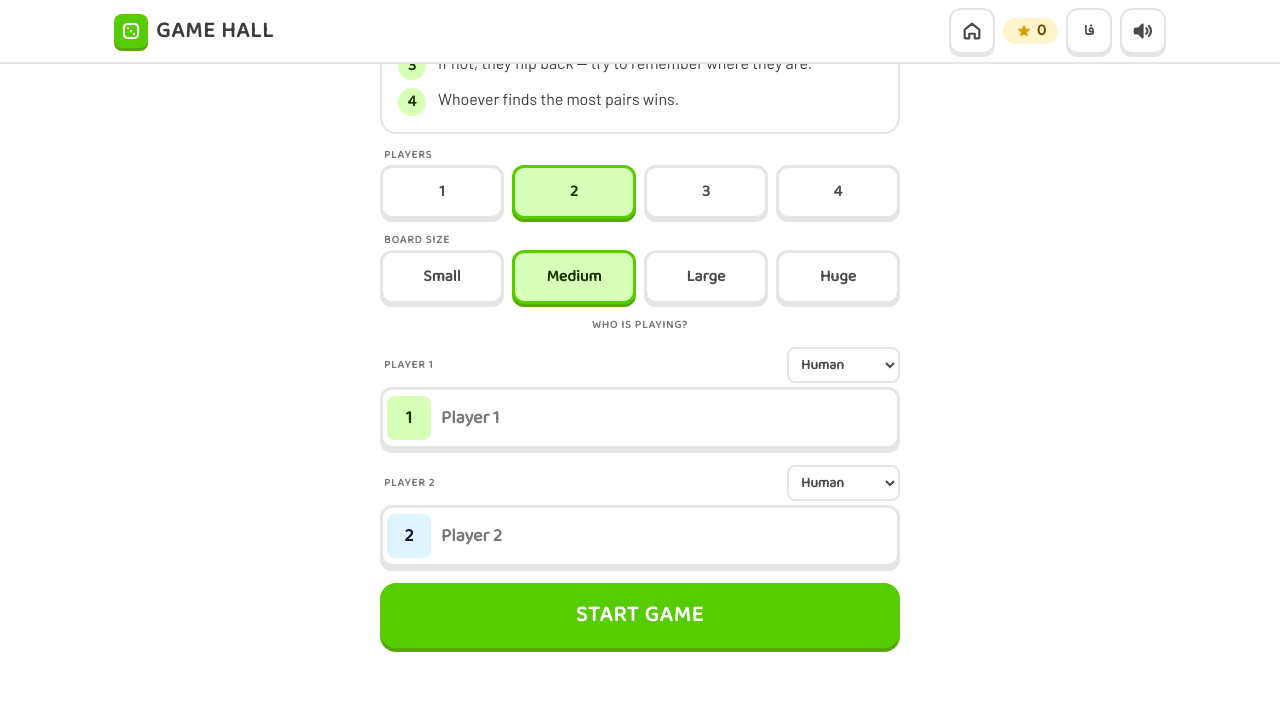
Memory — setup › starts with names or defaults
(page scrolled)
Type "Alex" into the field labelled "Player 1" at (666, 418), box [439,394,893,442]
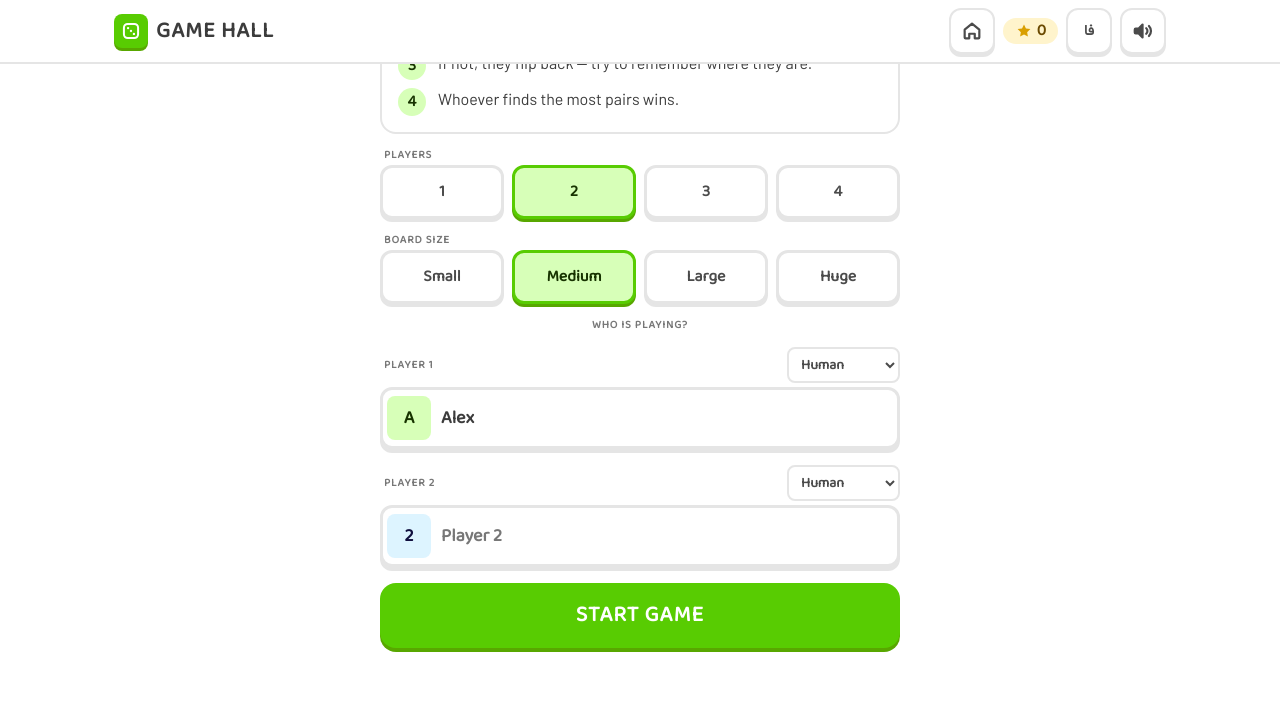
Click the button "Start game" at (640, 616), box [380,583,900,648]
(page scrolled)
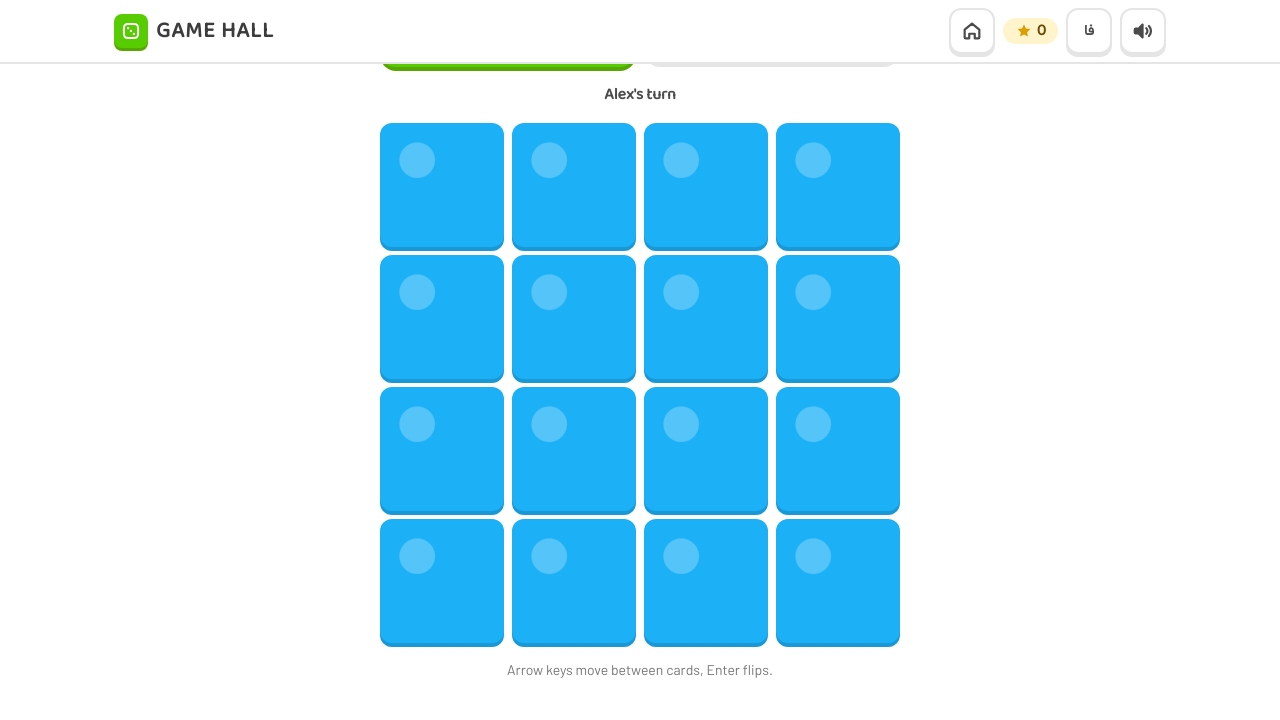
Expected: the message with class "mem-status" reads "Alex's turn", [604,82,676,107]
